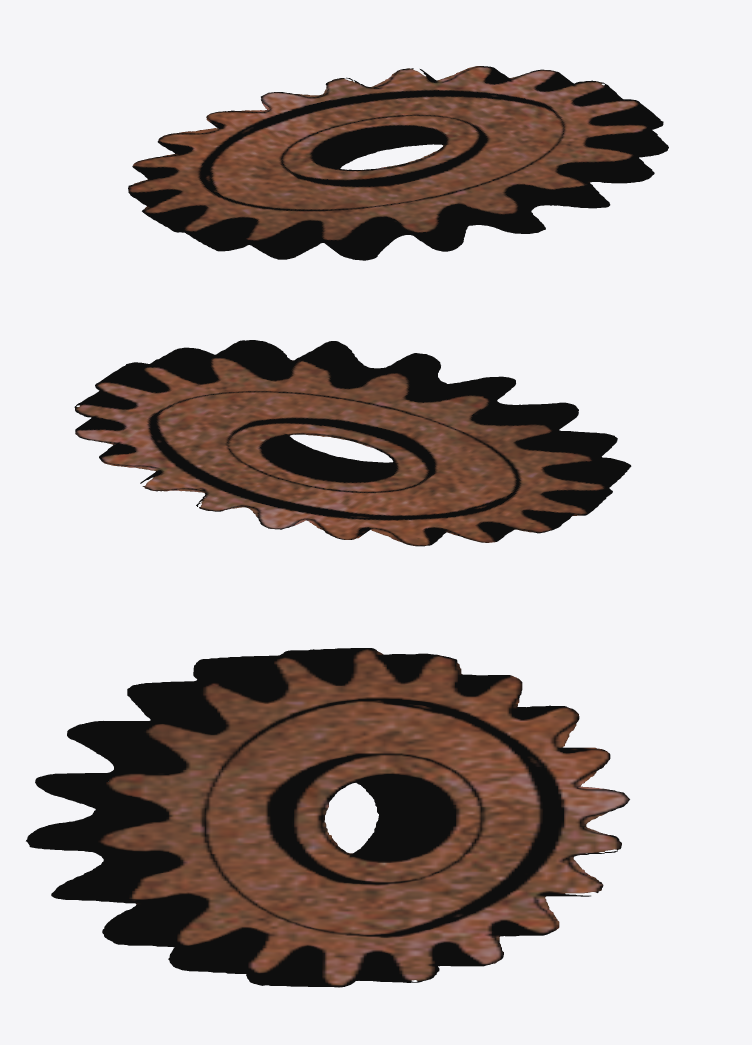
The picture shows the model from 3 angles, top to bottom: view 1: azimuth 30°, elevation 25°; view 2: azimuth 150°, elevation 25°; view 3: azimuth 270°, elevation 25°; orthographic projection. The views are drawn at different scales.
Visible parts, largest first — view 1: polySurface21; view 2: polySurface21; view 3: polySurface21.
Part boxes in pixels (x1,y1,x2,y2): polySurface21: (128, 66, 668, 260); polySurface21: (74, 340, 631, 546); polySurface21: (26, 648, 629, 987).
Bounding box in the file's own units: 5.7 × 0 × 4.26.
